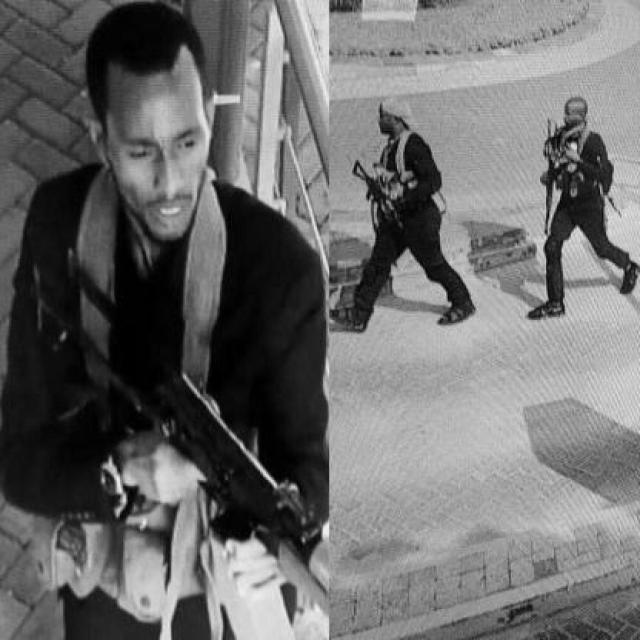weapon: (12, 240, 326, 569), (352, 158, 405, 231), (540, 119, 557, 235)
